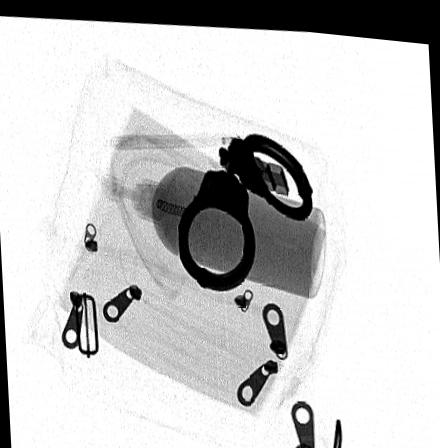HandCuffs: (178, 127, 313, 287)
